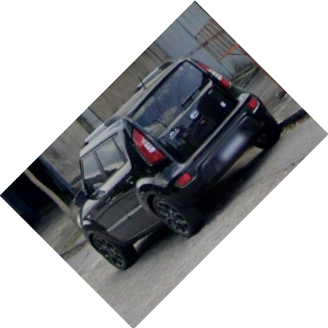car: (75, 55, 283, 270)
